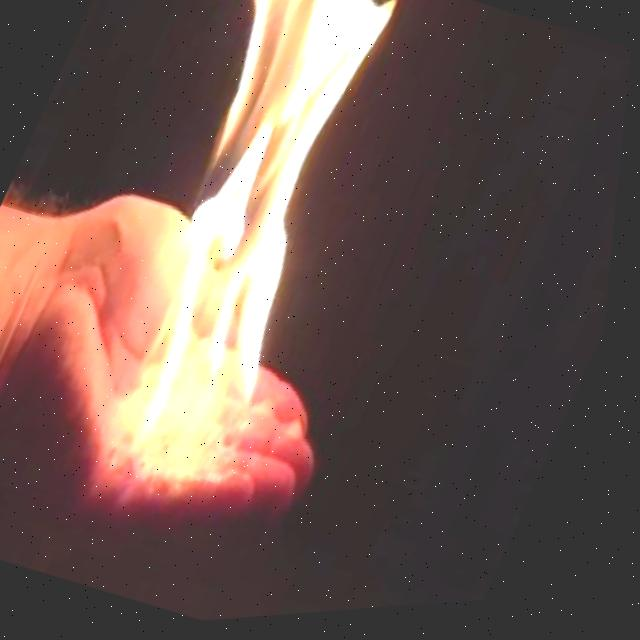Fire: (53, 0, 444, 473)
